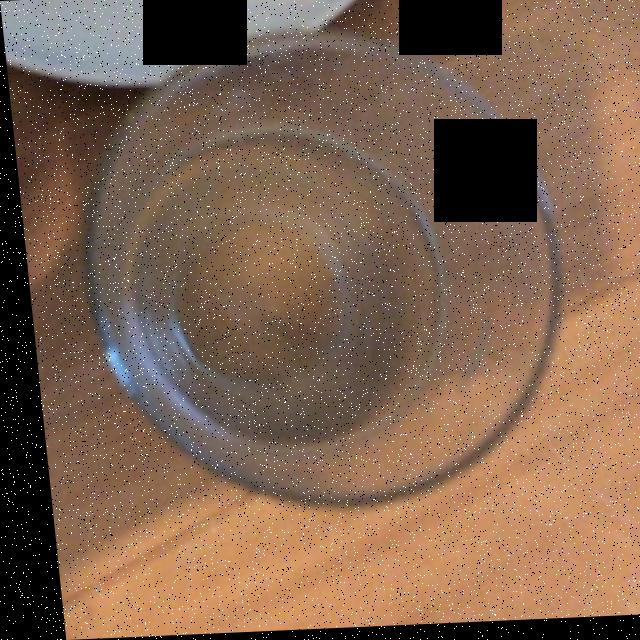water: (124, 147, 418, 435)
